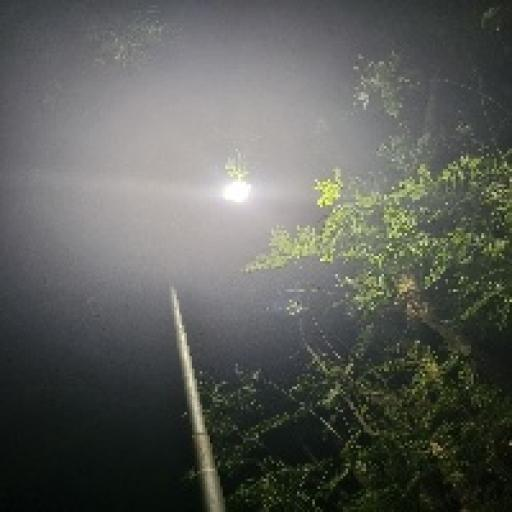Working: (213, 176, 260, 218)
